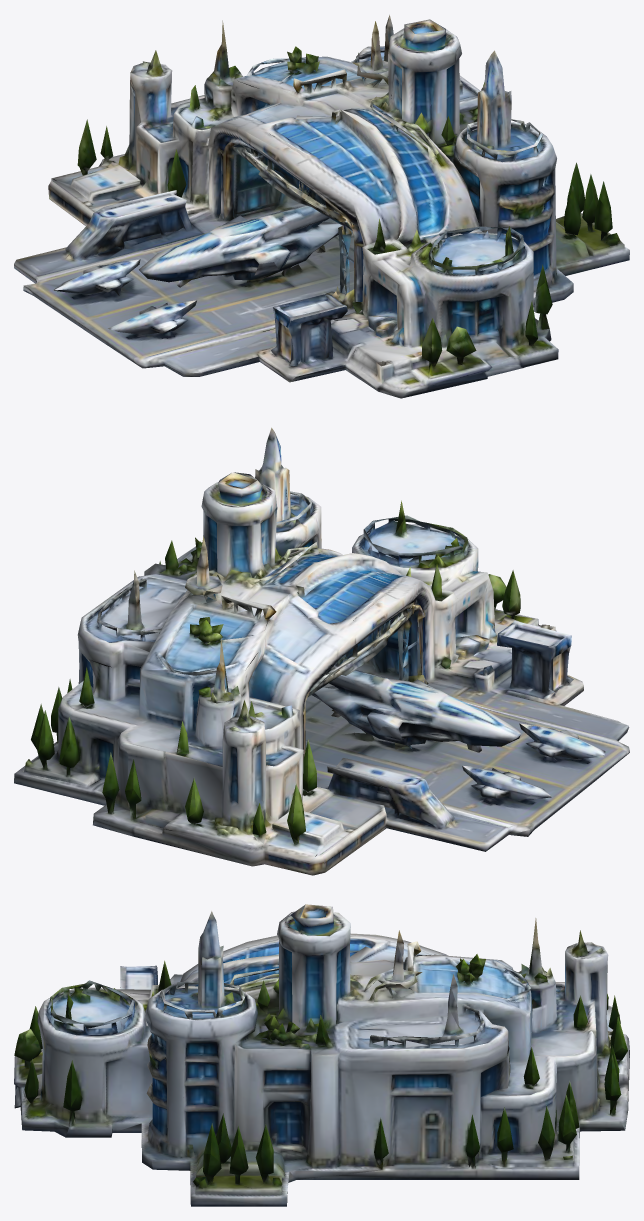
Rendered from HL_Unity_Hangar_v01_retopo.glb.
The picture shows the model from 3 angles, top to bottom: view 1: azimuth 30°, elevation 25°; view 2: azimuth 150°, elevation 25°; view 3: azimuth 270°, elevation 25°; orthographic projection. The views are drawn at different scales.
Visible parts, largest first — view 1: HL_Unity_Hangar_v01_retopo; view 2: HL_Unity_Hangar_v01_retopo; view 3: HL_Unity_Hangar_v01_retopo.
Part boxes in pixels (<box>): HL_Unity_Hangar_v01_retopo: <box>14,15,629,398</box>; HL_Unity_Hangar_v01_retopo: <box>14,427,629,875</box>; HL_Unity_Hangar_v01_retopo: <box>14,904,629,1206</box>.
Size of the model in its own units: 0.8993 by 0.4107 by 0.9766.
Materials: 1 (1 with a texture image).
